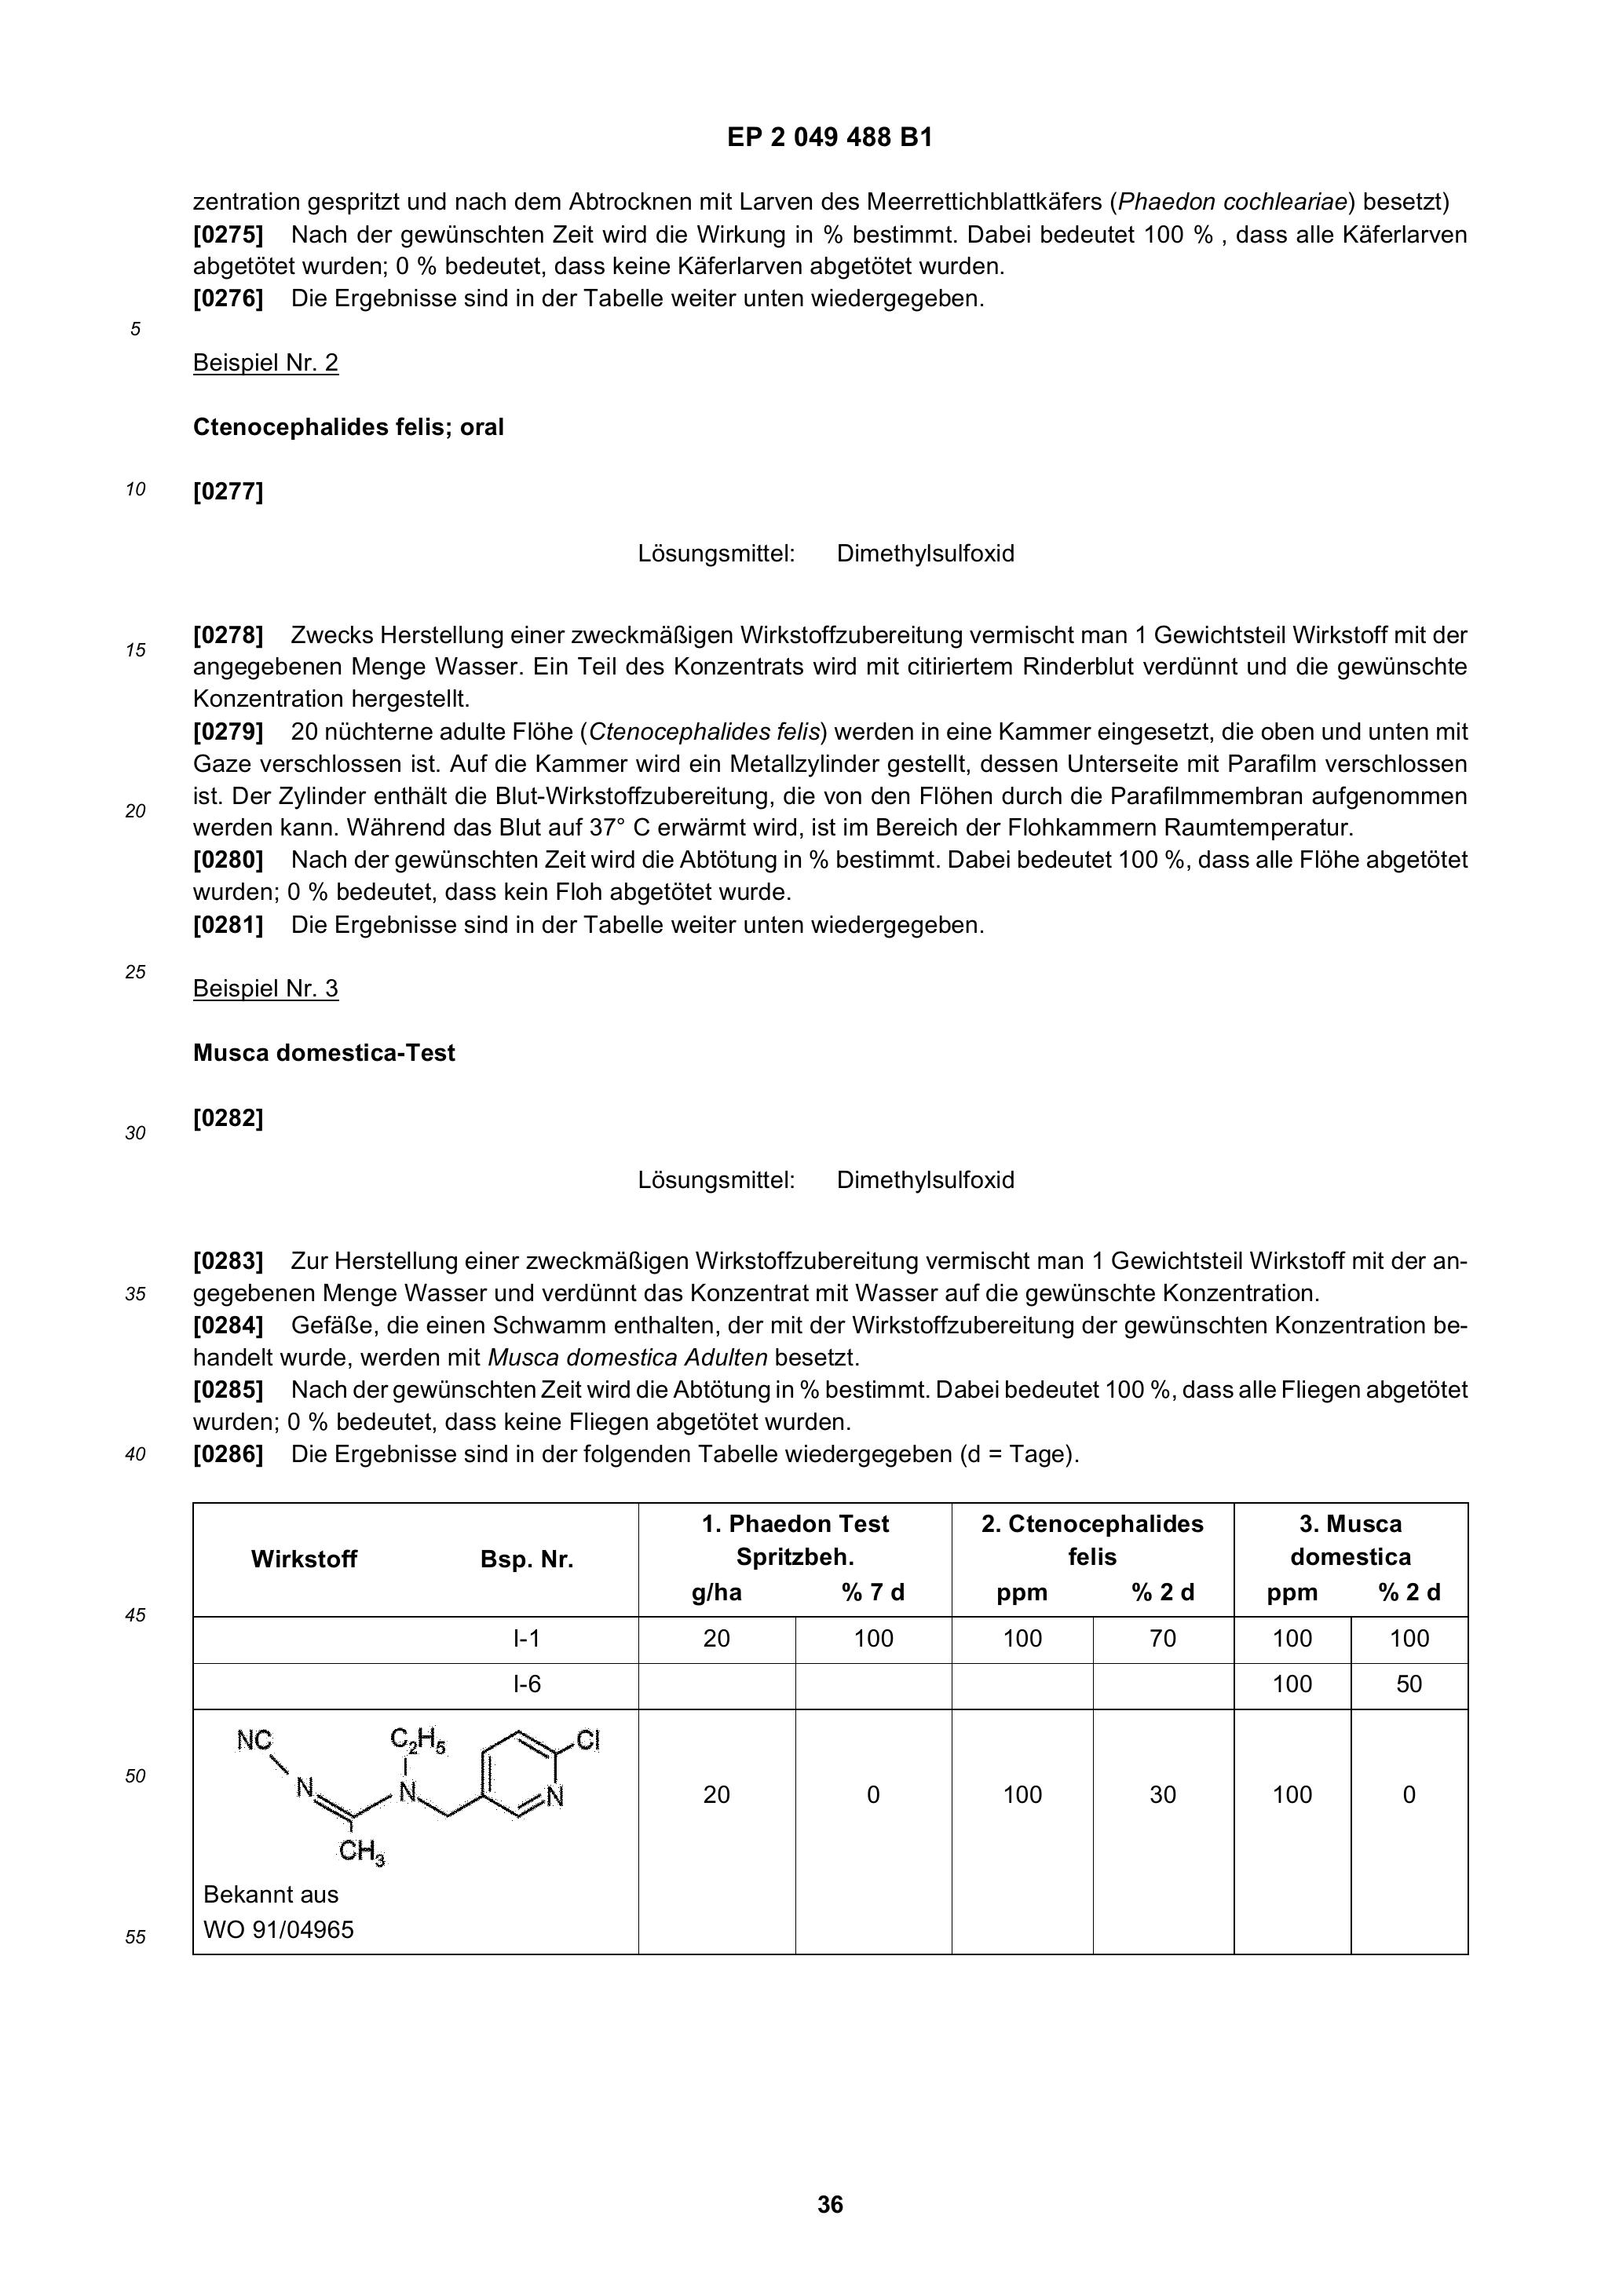relevant-structures: (207, 1695, 641, 1883)
